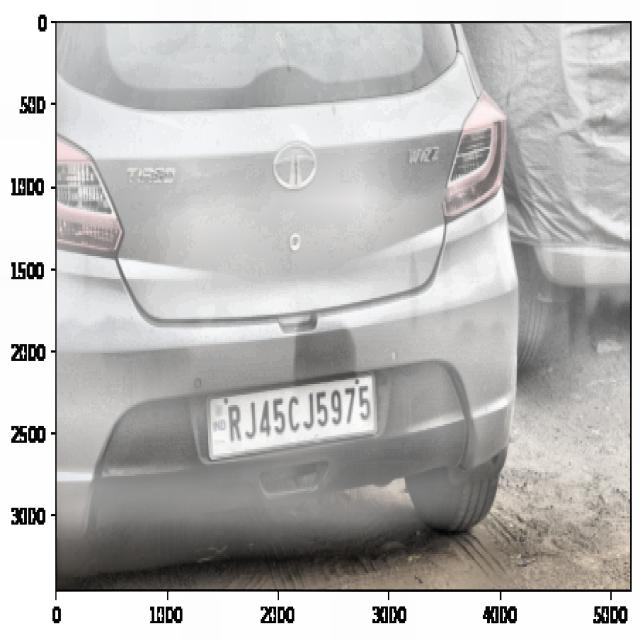license_plate: (222, 377, 375, 450)
